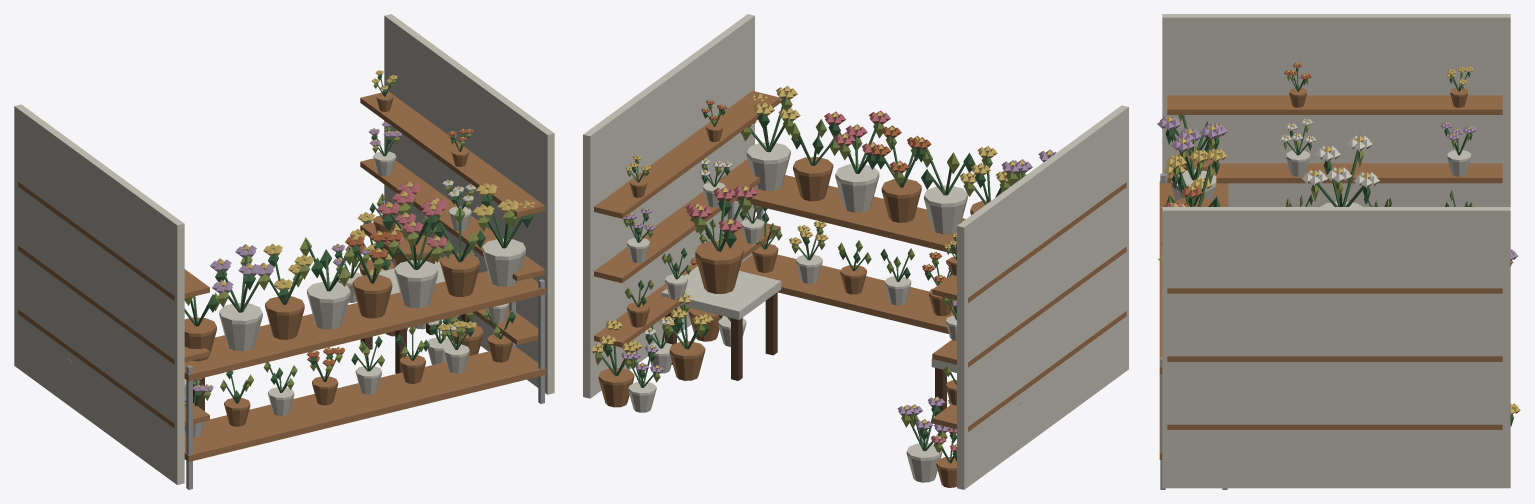
Rendered from flowers.glb.
The picture shows the model from 3 angles, left to right: view 1: azimuth 30°, elevation 25°; view 2: azimuth 150°, elevation 25°; view 3: azimuth 270°, elevation 25°; orthographic projection. The views are drawn at different scales.
Visible parts, largest first — view 1: flowers; view 2: flowers; view 3: flowers.
Boxes of the visible parts, box(x1,y1,x2,y2) form: flowers: box(14, 14, 554, 489); flowers: box(583, 14, 1128, 489); flowers: box(1157, 14, 1520, 489).
Bounding box in the file's own units: 3.54 × 2.38 × 2.76.
